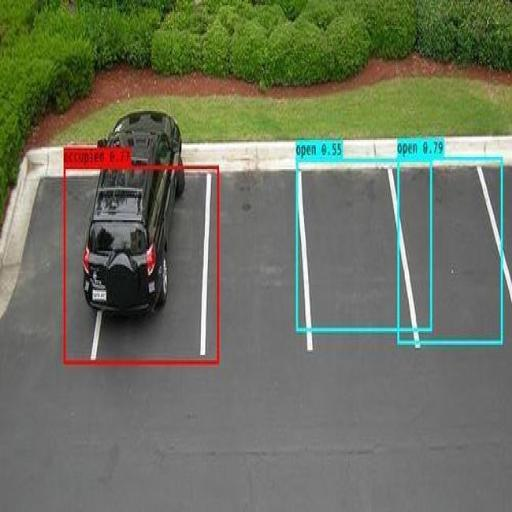Illegal-parking: (68, 59, 217, 379)
